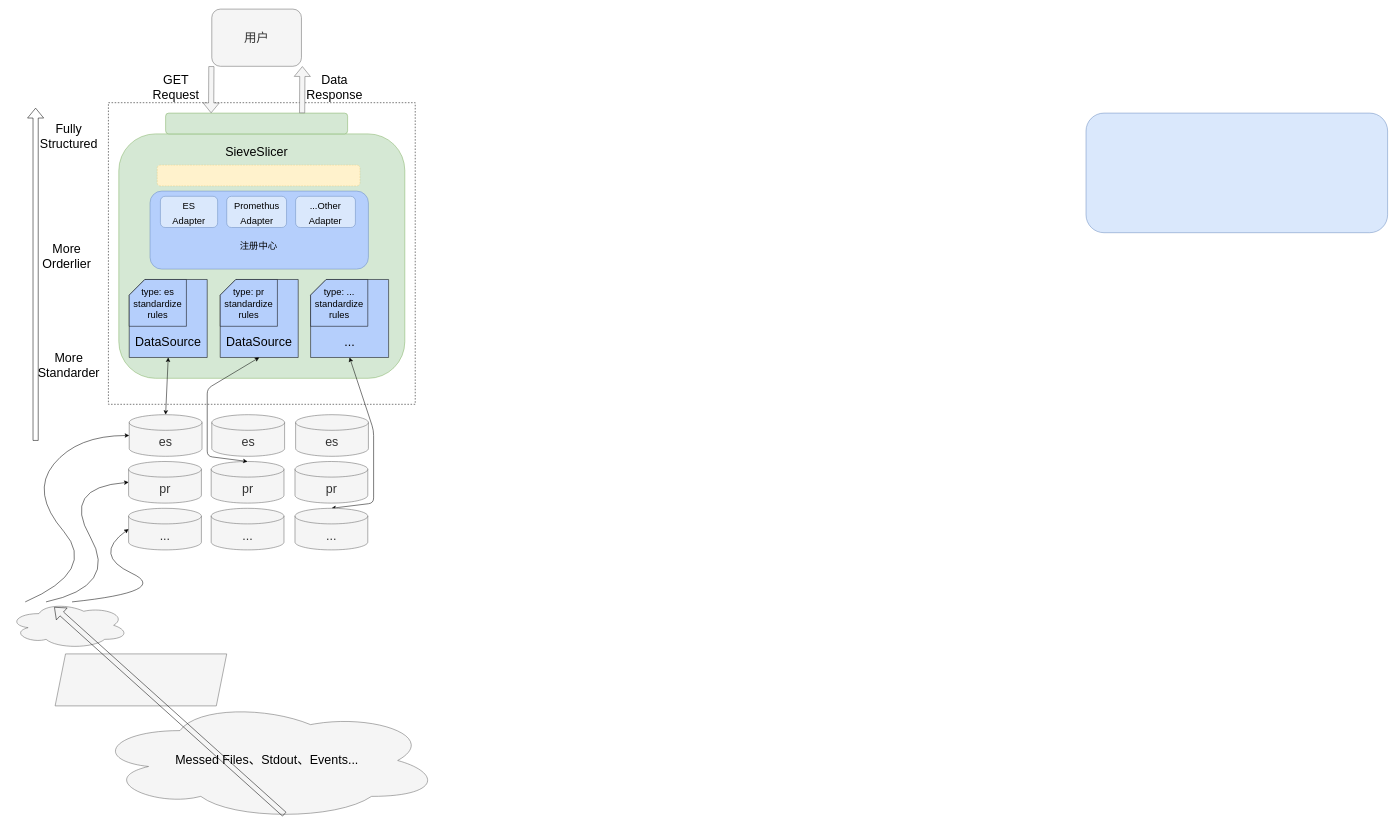
Some shapes in this 1397 by 829 pixel diagram are drawn without their labels. The shapes that lost their labels are listed below. From the top down, each one's centre as x and y in pixels, then its label:
At point 256,123: "Server".
At point 258,175: "Filter（清除冗余）".
At point 1237,173: "数据分析业务".
At point 68,625: "Messed Logs".
At point 141,679: "Messed logstash、 otherCollectors".
